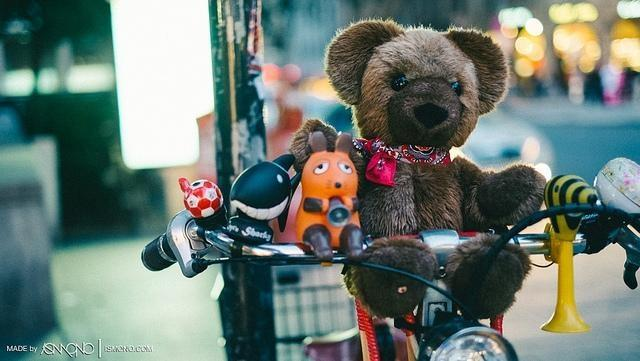bicycle: (140, 144, 640, 358)
